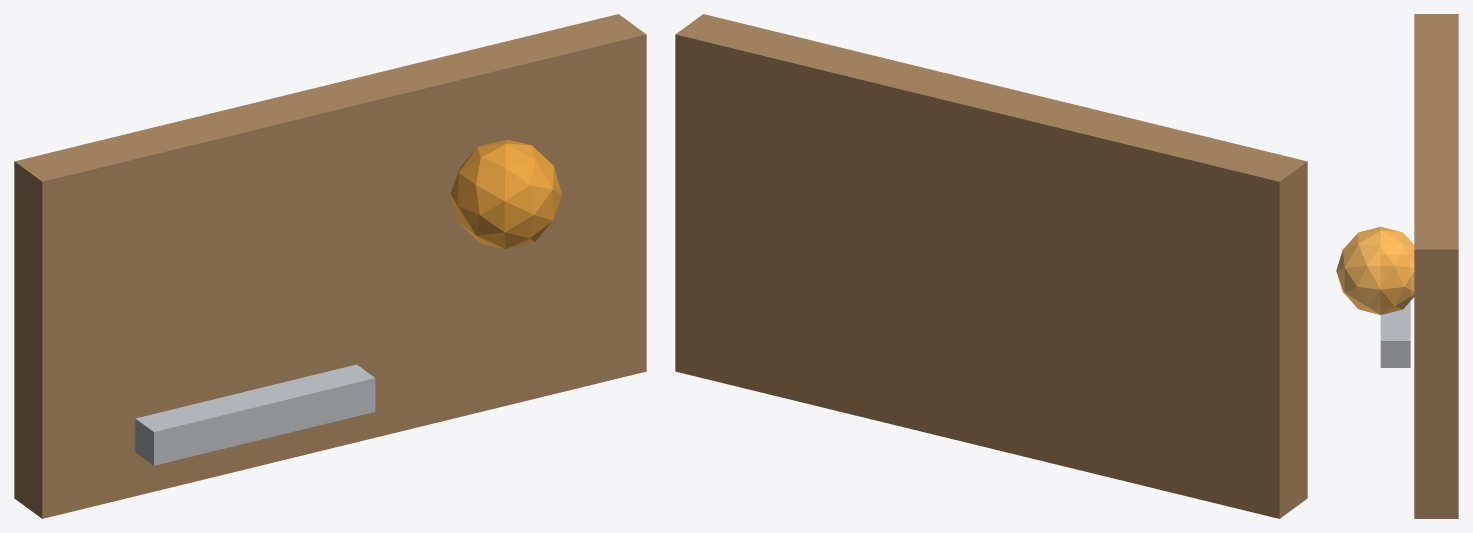
The model's file is repair_station.glb.
3 views of the same model, side by side, from view 1: azimuth 30°, elevation 25°; view 2: azimuth 150°, elevation 25°; view 3: azimuth 270°, elevation 25° (orthographic). The views are drawn at different scales.
Parts seen in each view (by area): view 1: bench_top, tool_a, power_core; view 2: bench_top; view 3: bench_top, power_core, tool_a.
Part boxes in pixels (box(x1,y1,x2,y2)): bench_top: box(14, 14, 646, 518); tool_a: box(135, 364, 375, 465); power_core: box(450, 139, 561, 248); bench_top: box(675, 14, 1307, 518); bench_top: box(1414, 14, 1458, 518); power_core: box(1336, 226, 1414, 314); tool_a: box(1380, 255, 1410, 367).
Bounding box in the file's own units: 1.5 × 0.8 × 0.33.
